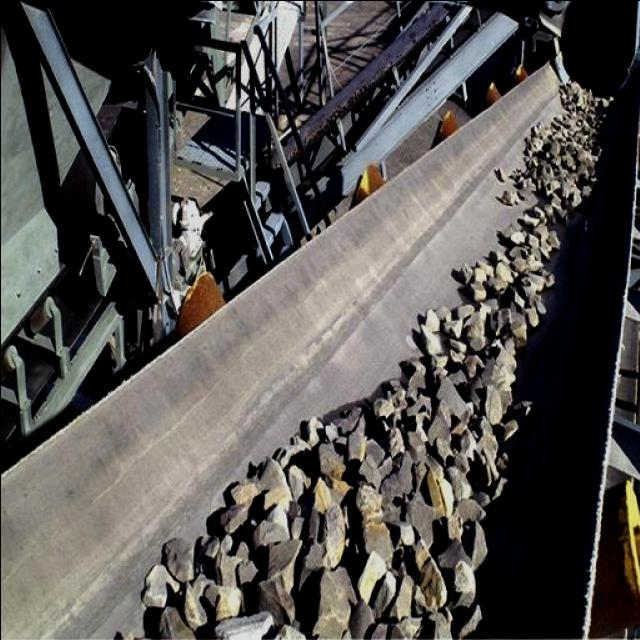conveyor: (0, 53, 640, 640)
